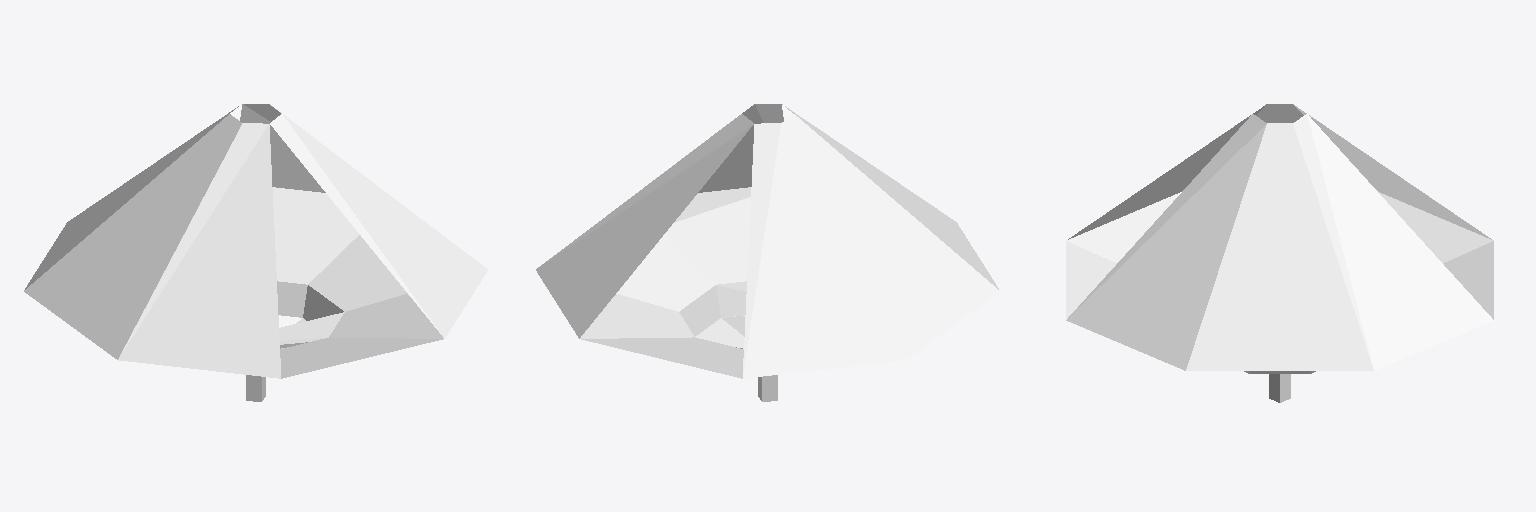
Rendered from CLOWN.obj.
The picture shows the model from 3 angles: view 1: azimuth 30°, elevation 25°; view 2: azimuth 150°, elevation 25°; view 3: azimuth 270°, elevation 25°; orthographic projection.
Parts seen in each view (by area): view 1: CLOWN_node00_face02, CLOWN_node02_face01, CLOWN_node00_face00; view 2: CLOWN_node02_face01, CLOWN_node00_face02, CLOWN_node02_face00; view 3: CLOWN_node00_face02, CLOWN_node02_face01, CLOWN_node00_face00.
Boxes of the visible parts, x1=… form: CLOWN_node00_face02: x1=118, y1=104, x2=487, y2=399; CLOWN_node02_face01: x1=24, y1=106, x2=442, y2=378; CLOWN_node00_face00: x1=246, y1=312, x2=344, y2=401; CLOWN_node02_face01: x1=581, y1=106, x2=999, y2=378; CLOWN_node00_face02: x1=536, y1=104, x2=998, y2=401; CLOWN_node02_face00: x1=674, y1=187, x2=750, y2=222; CLOWN_node00_face02: x1=1066, y1=104, x2=1493, y2=399; CLOWN_node02_face01: x1=1066, y1=104, x2=1493, y2=373; CLOWN_node00_face00: x1=1068, y1=241, x2=1287, y2=402.
Size of the model in its own units: 300 by 220 by 300.